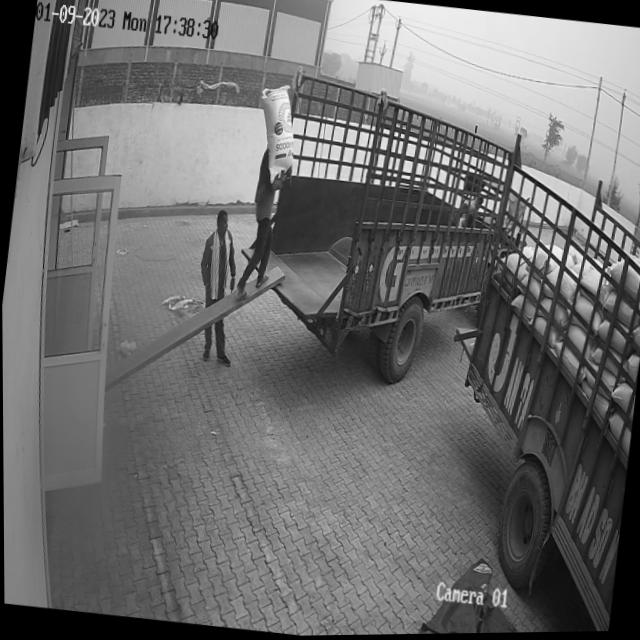sack: (250, 82, 302, 185)
